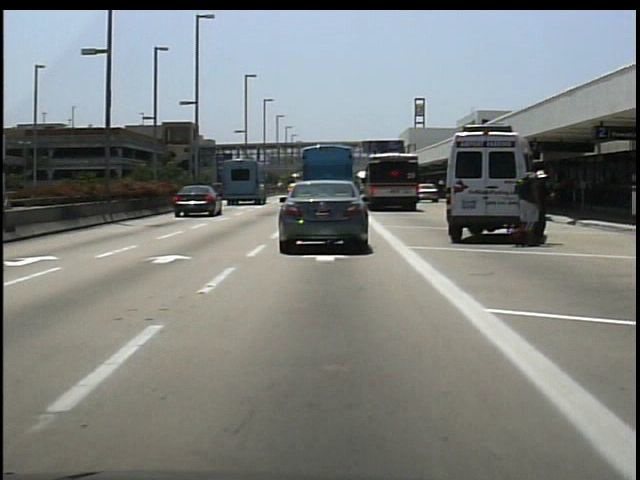person: (514, 160, 546, 247), (537, 170, 554, 247)
